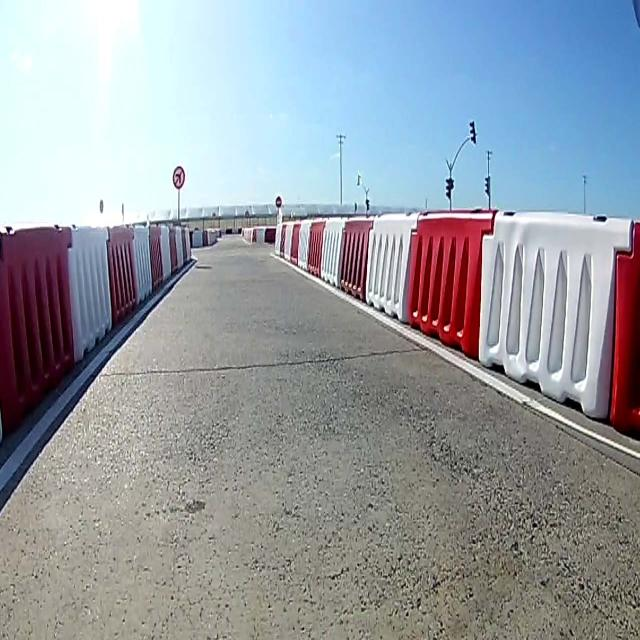soladonulmez: (172, 166, 185, 190)
